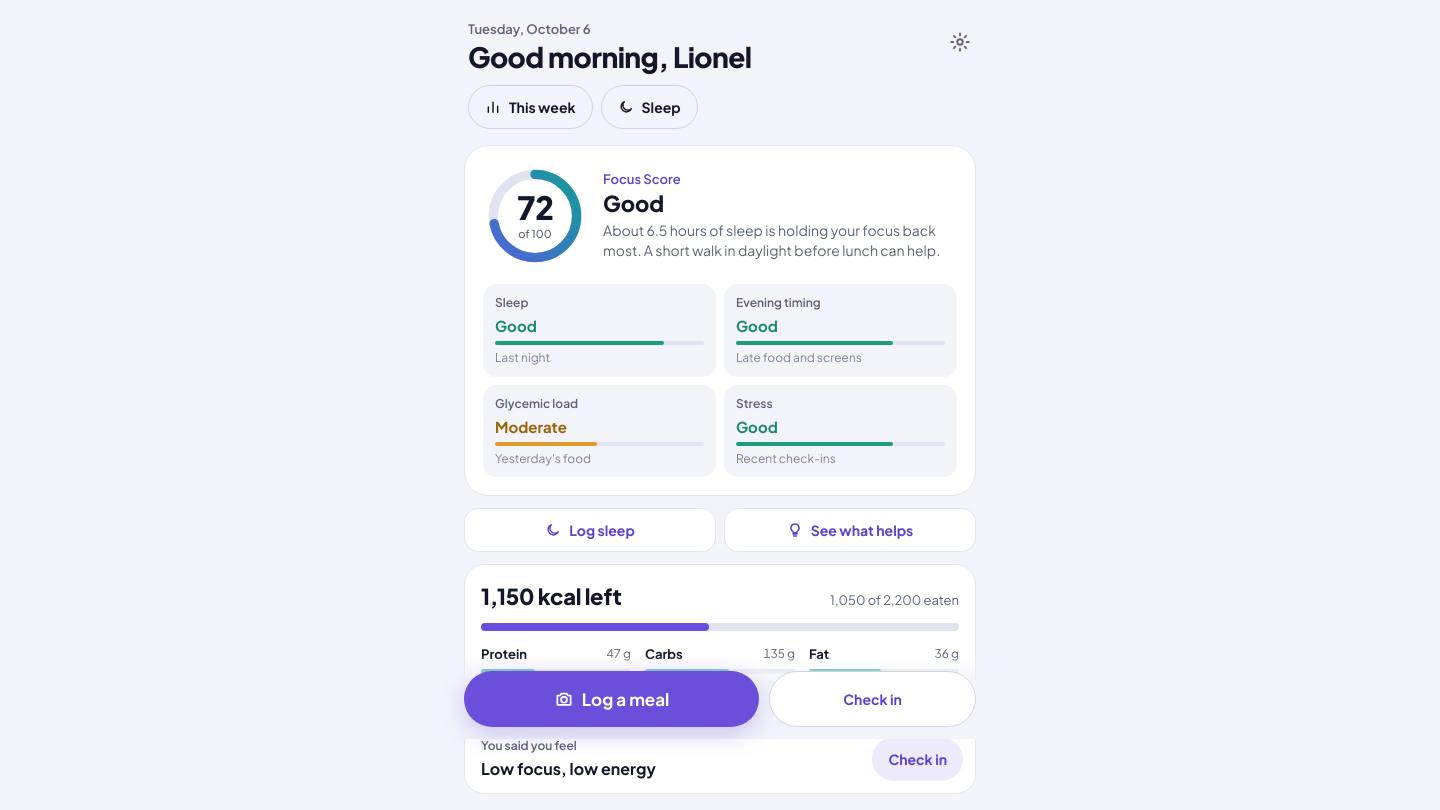
Test: Today › saves a check-in
This screenshot has width=1440, height=810.
What coordinates should you click on to do the following:
click the 1st button "Check in"
I would click on:
 (873, 699)
Its box is [769,671,976,727].
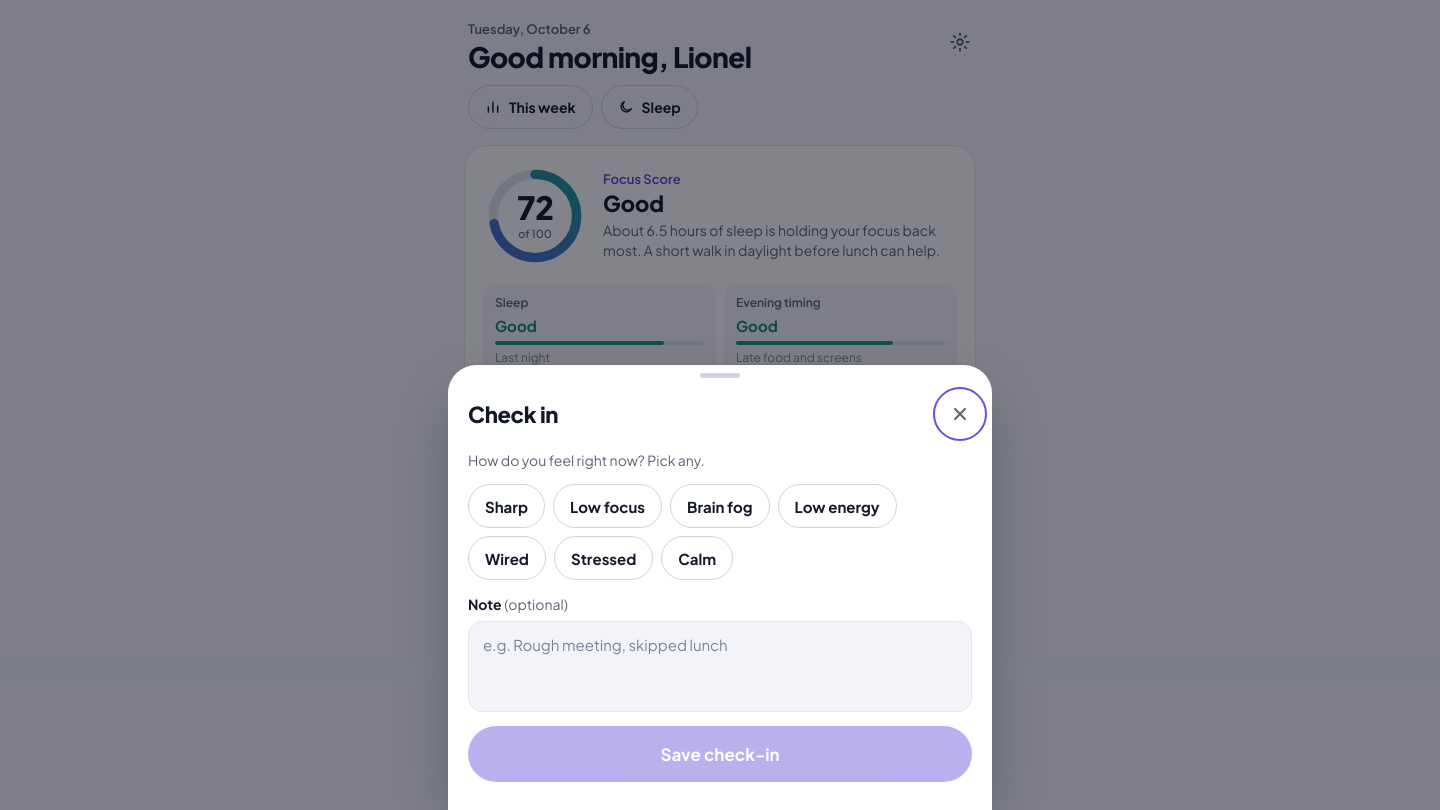
What coordinates should you click on to do the following:
click the button "Sharp"
I would click on:
 (506, 506)
Its box is [468,484,545,528].
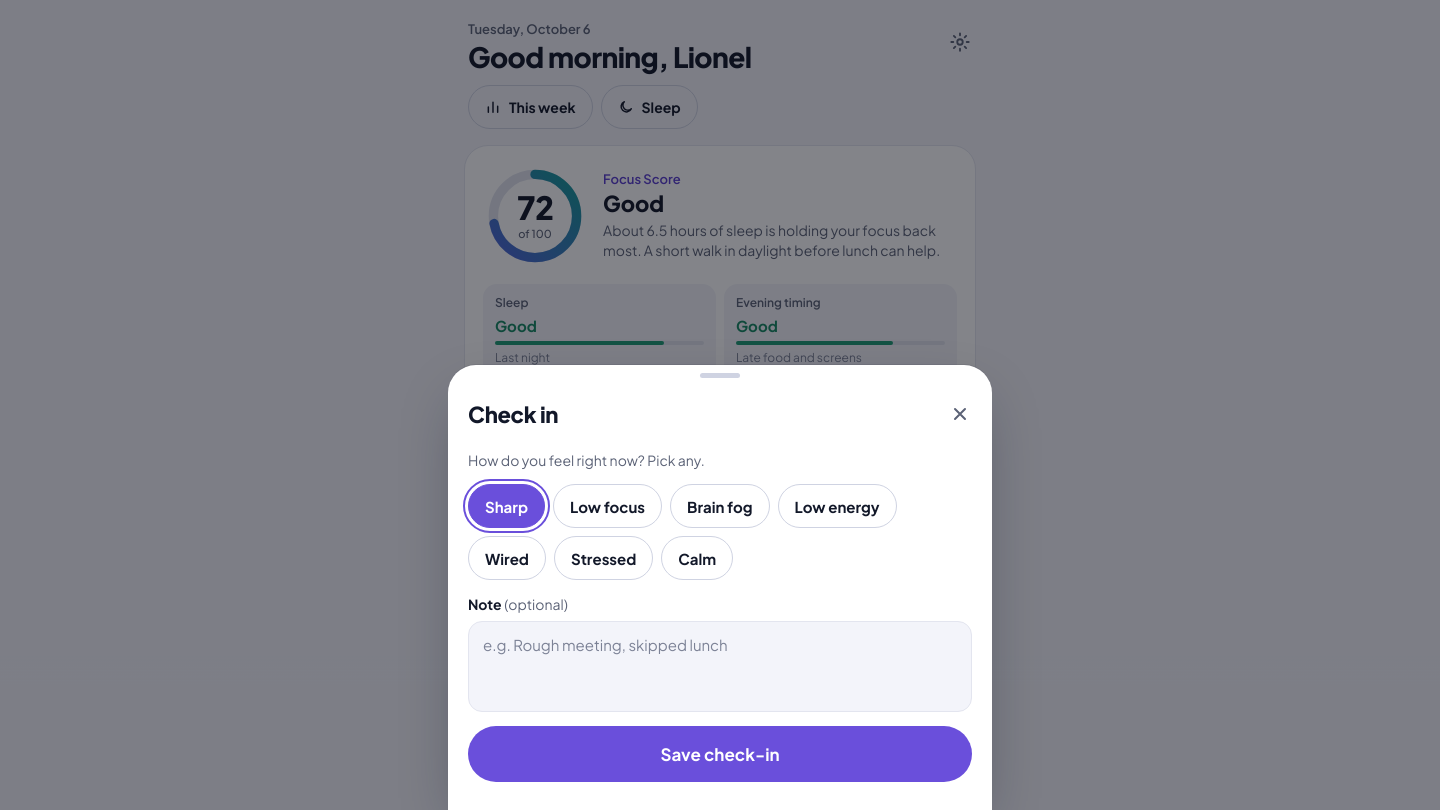
What coordinates should you click on to do the following:
click the button "Save check-in"
I would click on:
 (720, 754)
Its box is [468,726,972,782].
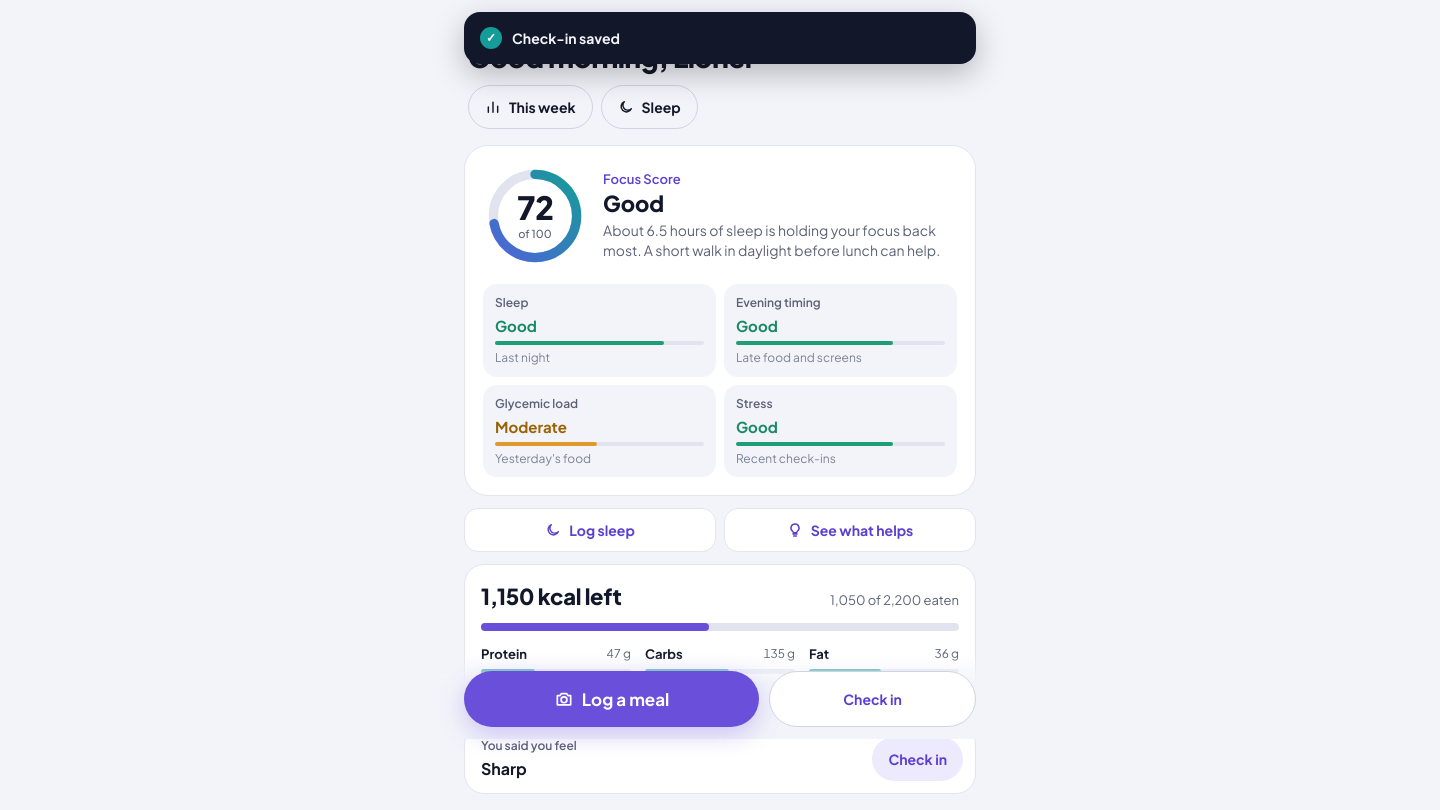
Result: the text "Check-in saved" is shown at [512,29,620,47]
